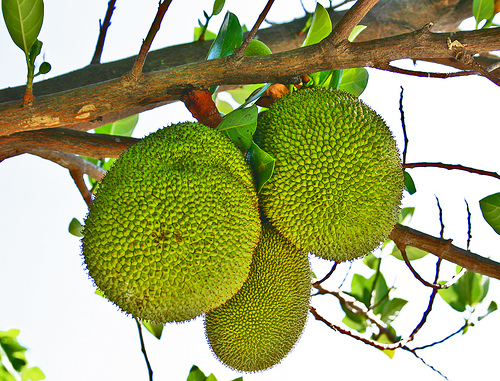jackfruit: (85, 121, 262, 324), (250, 85, 405, 263), (202, 221, 313, 374)
